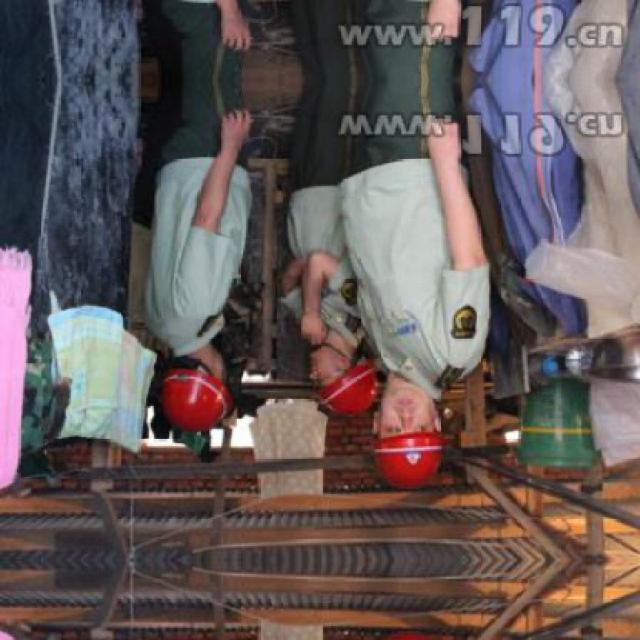con casco: (358, 332, 476, 534), (124, 282, 263, 436), (278, 280, 390, 436)
